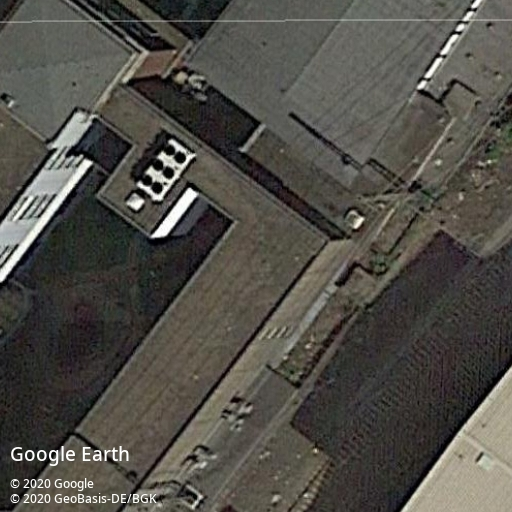Chiller: (134, 138, 197, 203)
